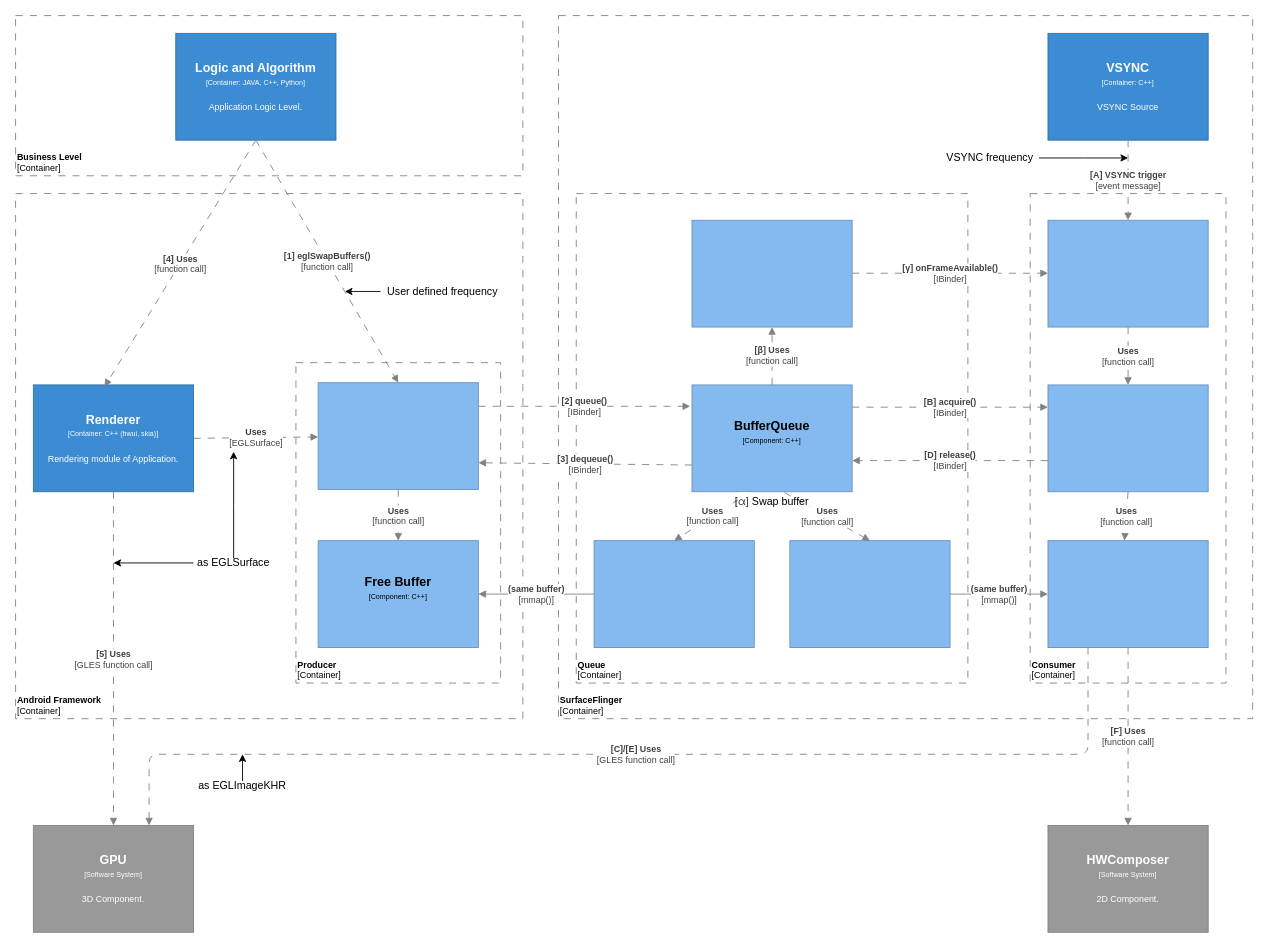
This 1268x948 diagram has some shape labels left out. Here are the shapes that lost their labels. From the top down, the centre of each, then its label:
point 771,273: Listener [Component: C++] The Listener for Consumer.
point 1127,273: SurfaceFlinger [Component: C++] Composition Thread.
point 397,436: Window [Component: C++]
point 1127,438: Layer [Component: C++]
point 673,593: Back Buffer [Component: C++]
point 869,593: Front Buffer [Component: C++]
point 1127,593: Frame Buffer [Component: C++]
